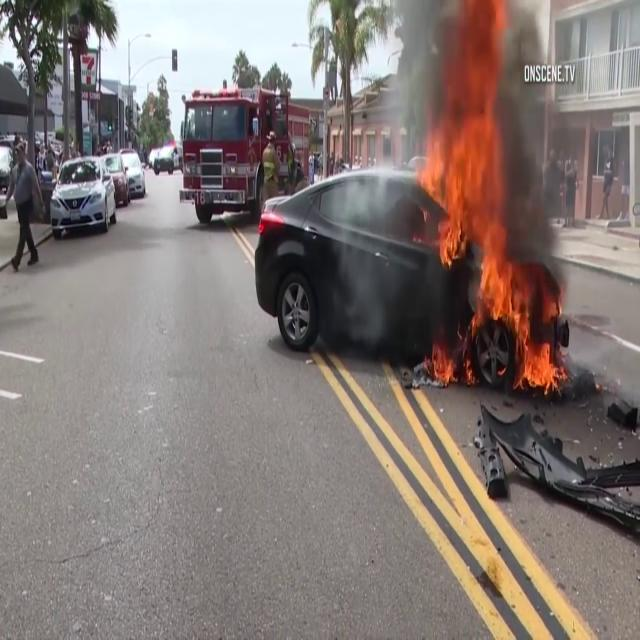Fire: (393, 9, 566, 402)
